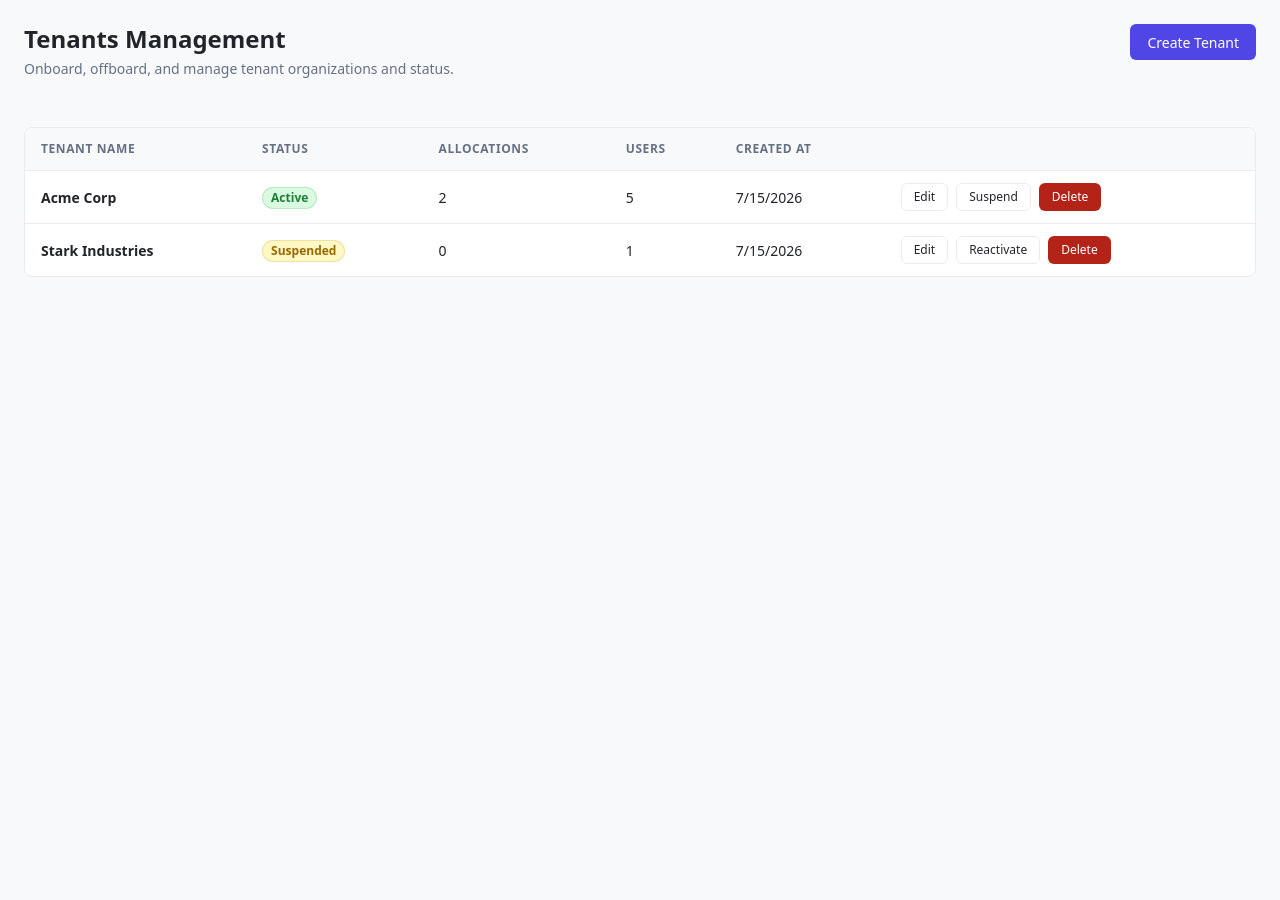
Test: TenantsPage & TenantForm › shows api validation error inline on 422
Click the button "Create Tenant". click: (1193, 42)
box: [1130, 24, 1256, 60]
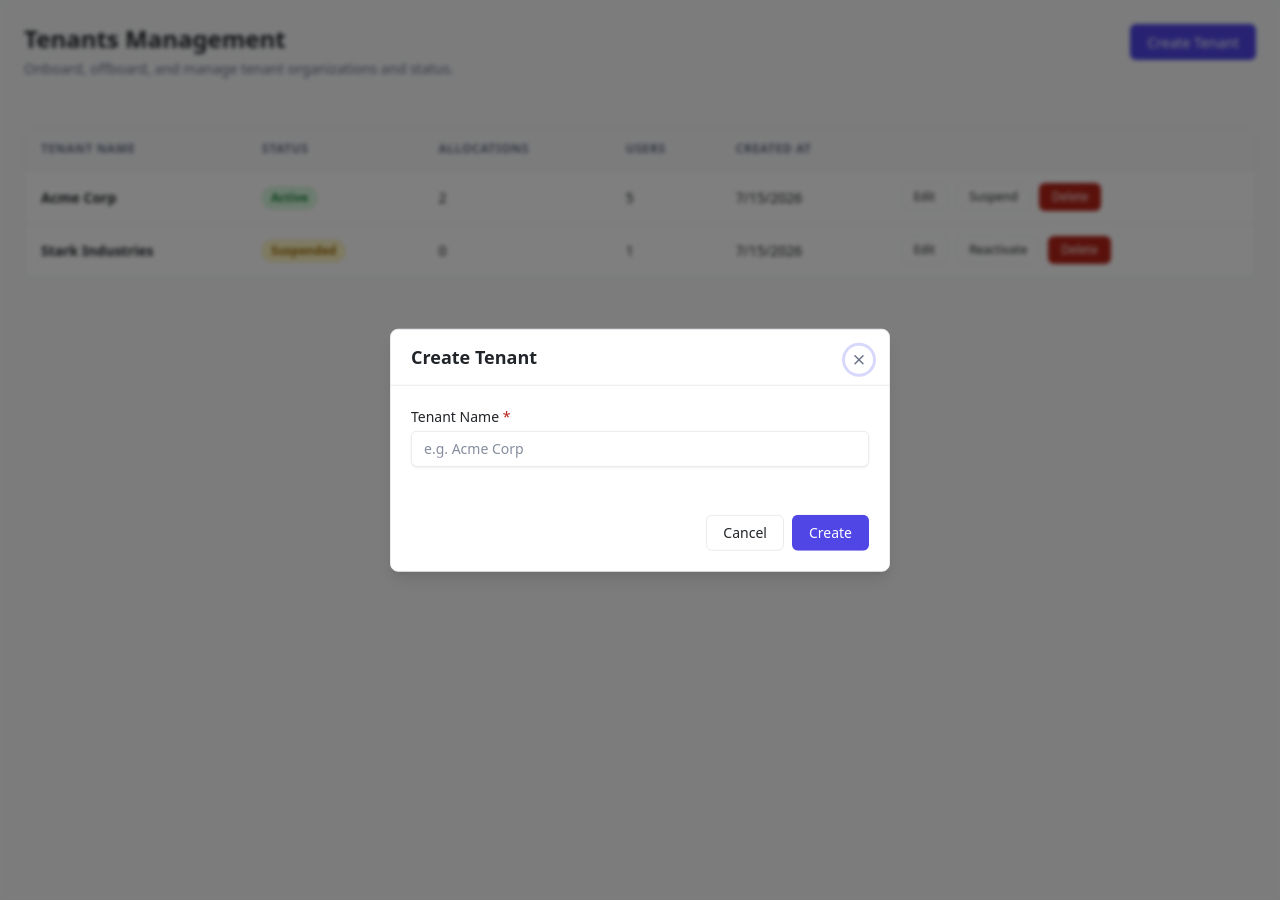
Type "Acme Corp" into the field labelled "Tenant Name *". click: (640, 448)
box: [411, 430, 869, 466]
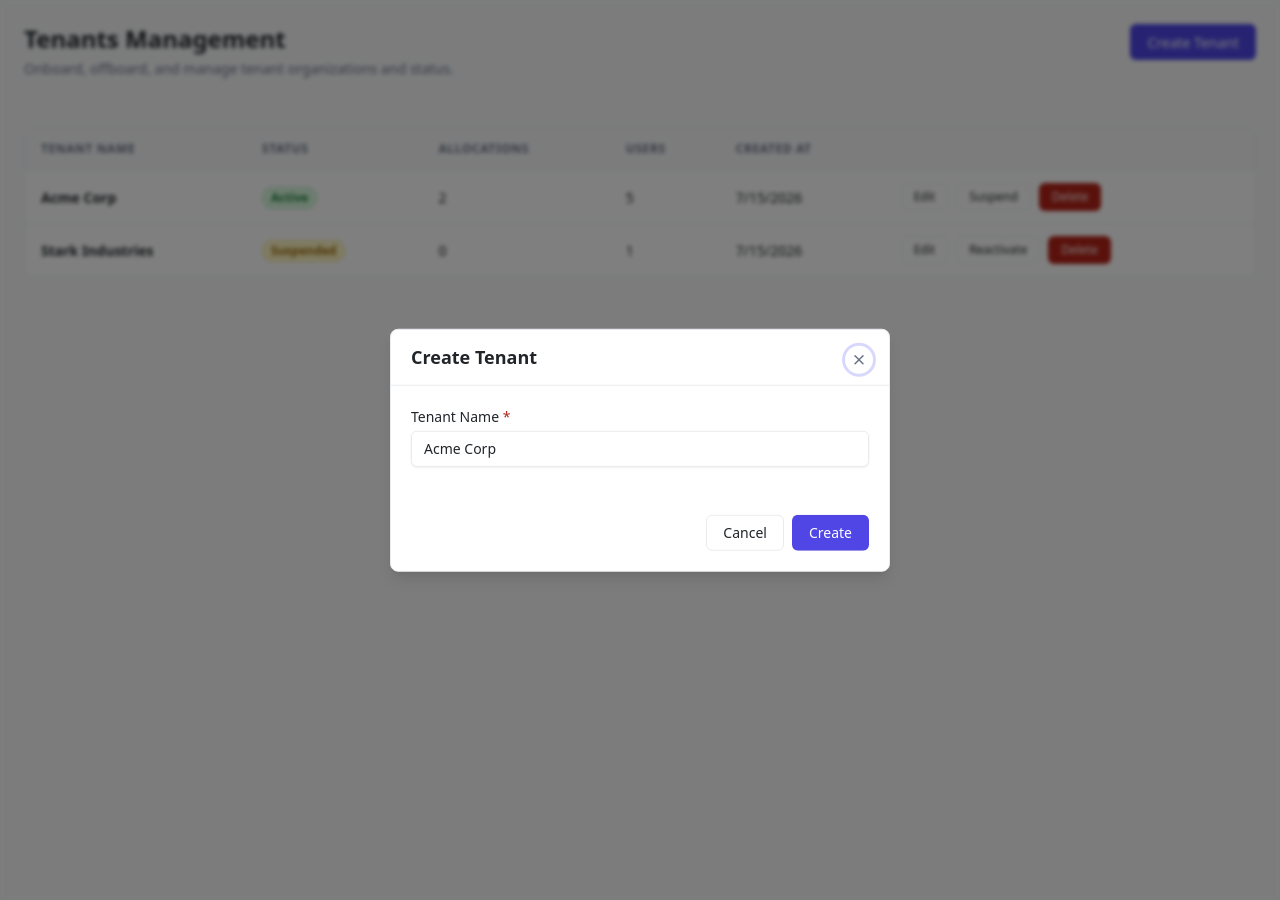
Click the button "Create". click: (830, 532)
box: [792, 514, 869, 550]
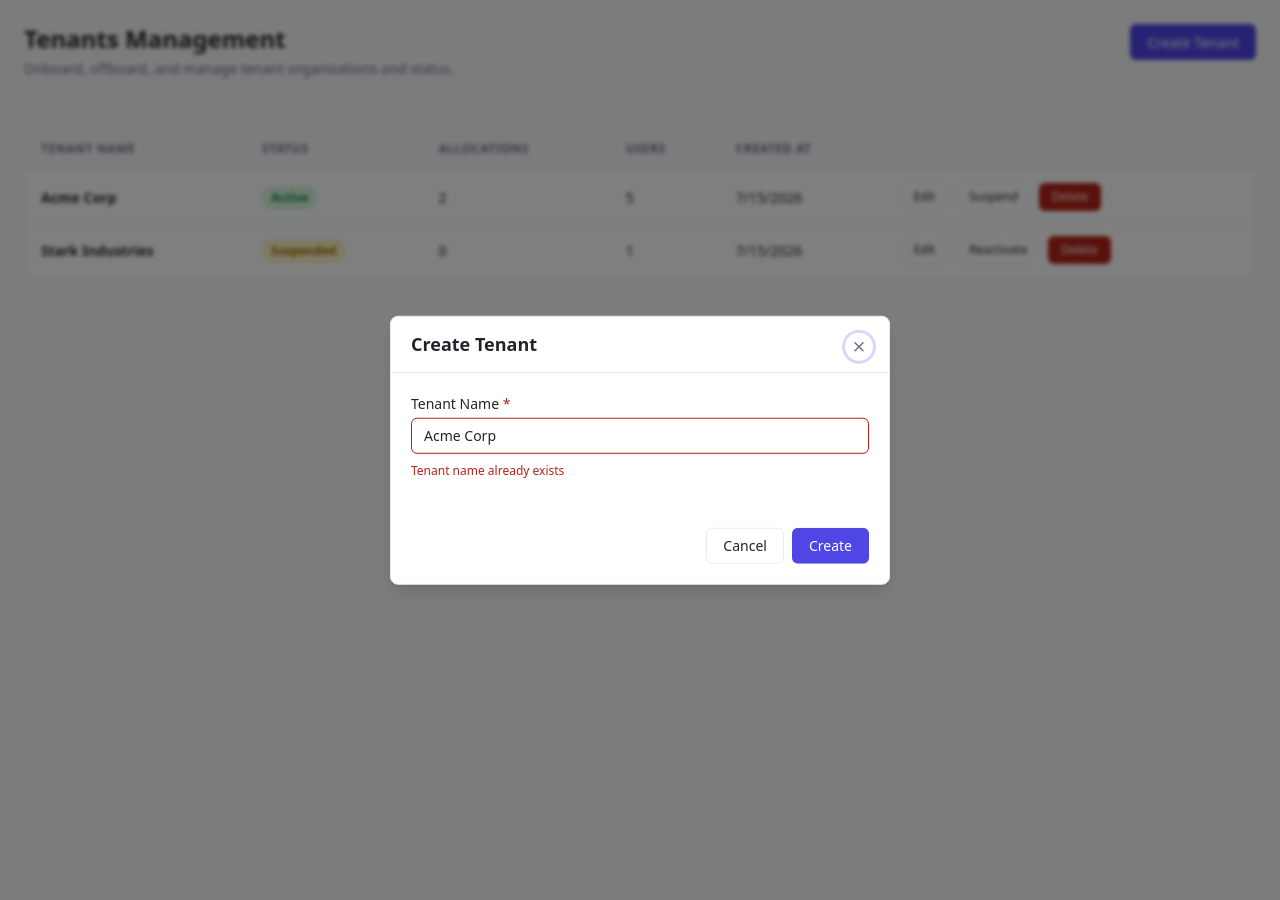
Now the text "Tenant name already exists" is shown, box [411, 461, 564, 478]
